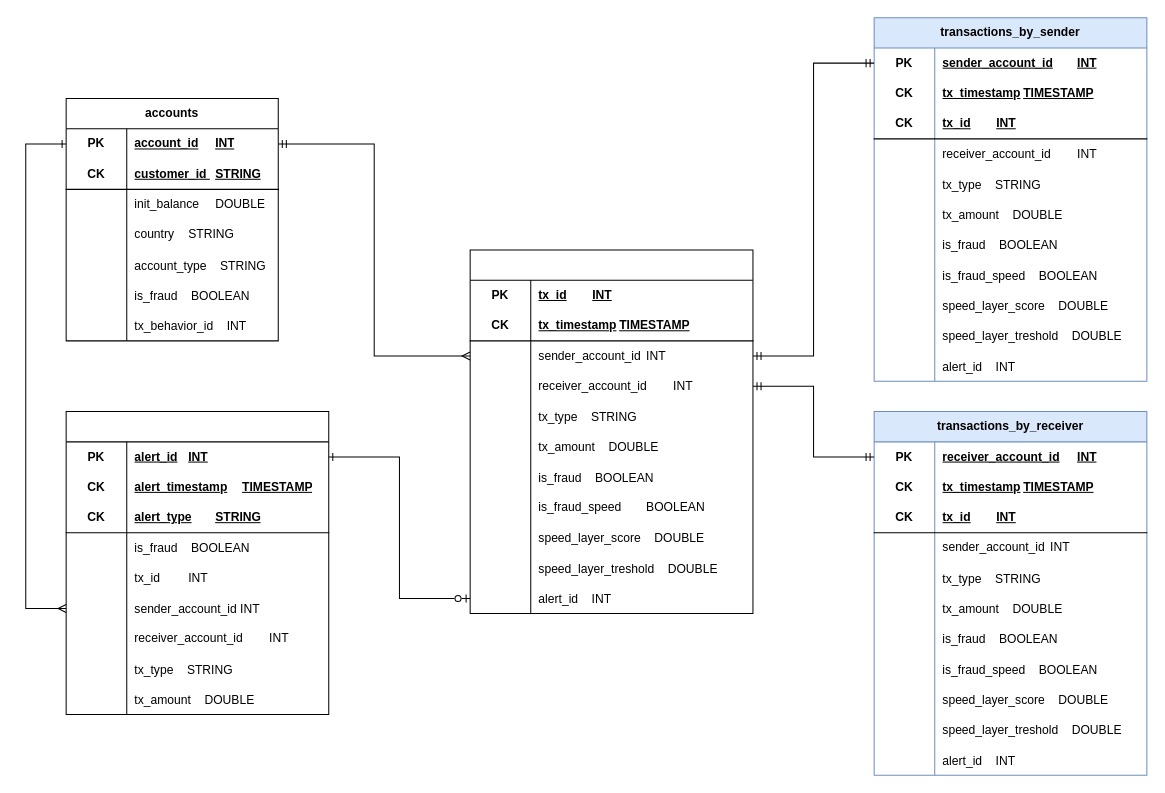
Some shapes in this 1165 by 793 pixel diagram are drawn without their labels. Each missing label, with the box of its shape:
alerts: (65, 411, 329, 715)
transactions: (469, 249, 753, 614)
